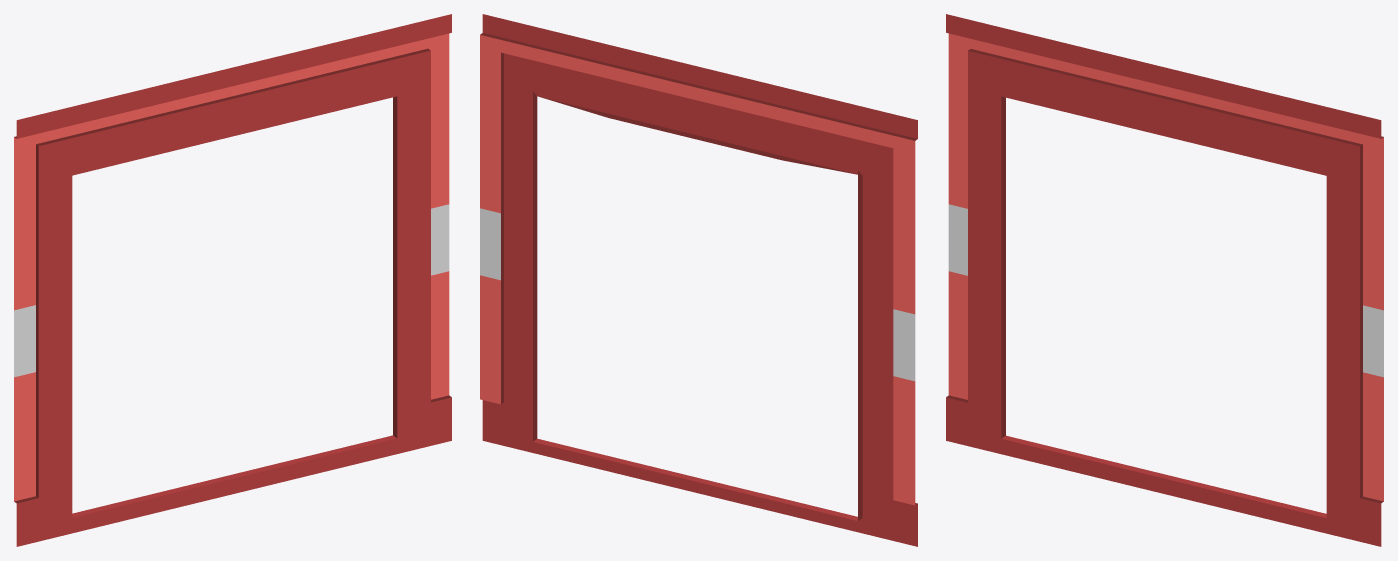
The model's file is WallDoor2.glb.
3 views of the same model, side by side, from view 1: azimuth 30°, elevation 25°; view 2: azimuth 150°, elevation 25°; view 3: azimuth 330°, elevation 25° (orthographic).
Visible parts, largest first — view 1: SI_Env_Wall_Door_Largel_02; view 2: SI_Env_Wall_Door_Largel_02; view 3: SI_Env_Wall_Door_Largel_02.
Boxes of the visible parts, left/top/right/bottom form: SI_Env_Wall_Door_Largel_02: left=14, top=14, right=451, bottom=546; SI_Env_Wall_Door_Largel_02: left=480, top=14, right=917, bottom=546; SI_Env_Wall_Door_Largel_02: left=946, top=14, right=1383, bottom=546.
Bounding box in the file's own units: 0.05 × 0.0469 × 0.000885.
1 material, 1 textured.
